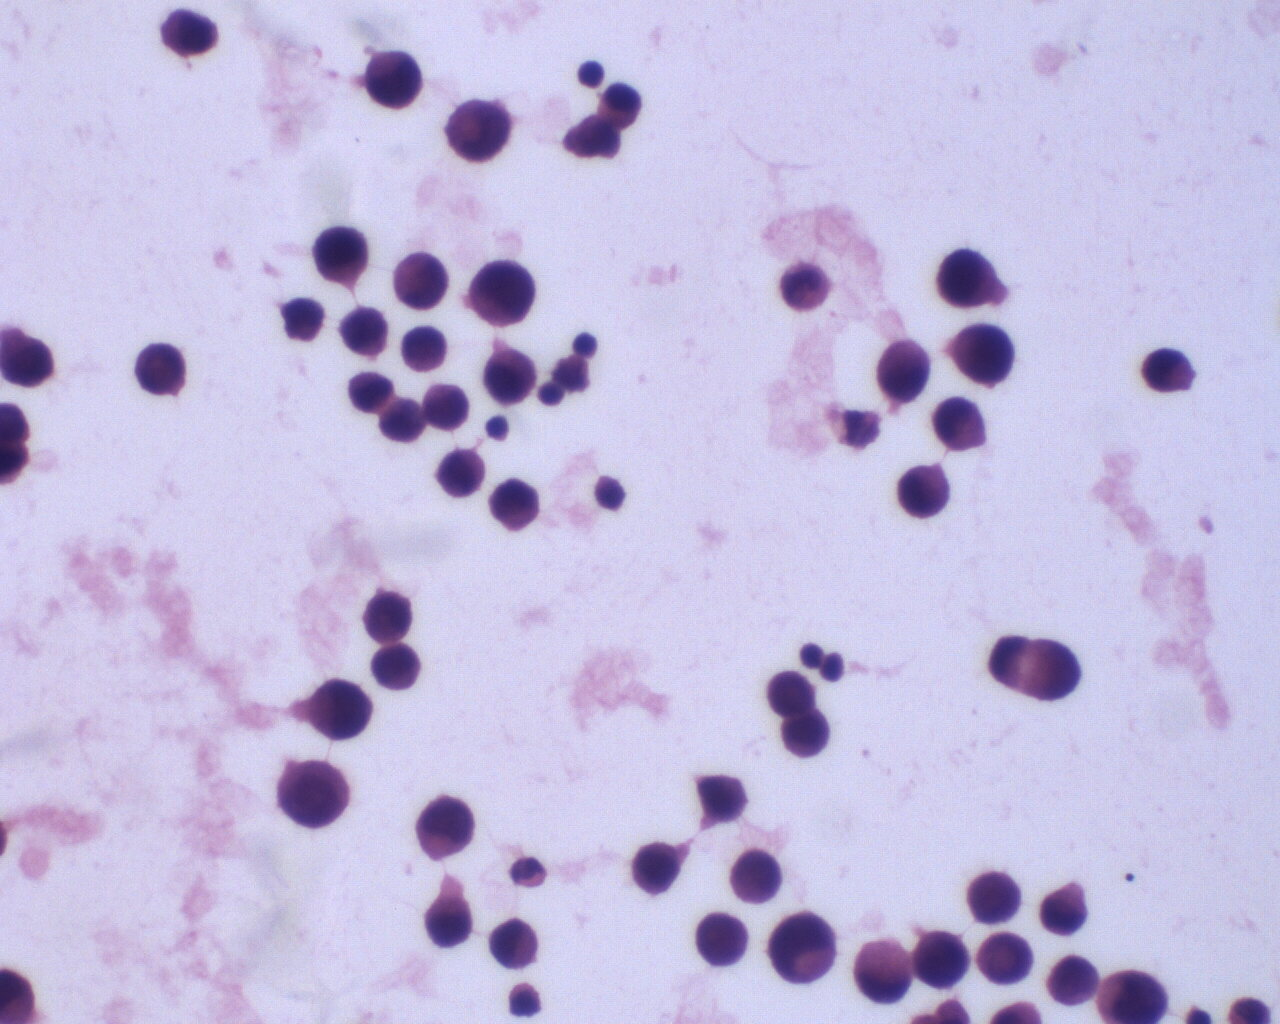ab: (278, 755, 353, 833), (768, 908, 839, 987), (440, 95, 514, 166), (470, 258, 539, 328), (950, 318, 1018, 388), (309, 675, 375, 744), (360, 48, 428, 114), (415, 795, 481, 863), (961, 864, 1029, 928), (152, 4, 227, 61), (912, 925, 975, 992), (1098, 968, 1172, 1024), (875, 335, 932, 405), (936, 245, 996, 311), (308, 224, 370, 287), (391, 249, 450, 315), (133, 338, 193, 400), (930, 392, 990, 453), (486, 475, 548, 535), (694, 908, 753, 970), (485, 344, 539, 409), (898, 459, 953, 521), (628, 840, 686, 898), (725, 846, 784, 904), (975, 930, 1035, 985), (367, 641, 425, 696), (358, 588, 418, 642), (336, 303, 392, 358), (1142, 344, 1198, 397), (1047, 953, 1100, 1009), (436, 445, 488, 499), (781, 709, 833, 763), (762, 669, 820, 715), (422, 382, 473, 434), (398, 324, 452, 372)
lymph: (573, 55, 608, 90), (571, 330, 601, 357)
